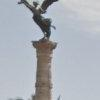Statue: (15, 2, 65, 65)
